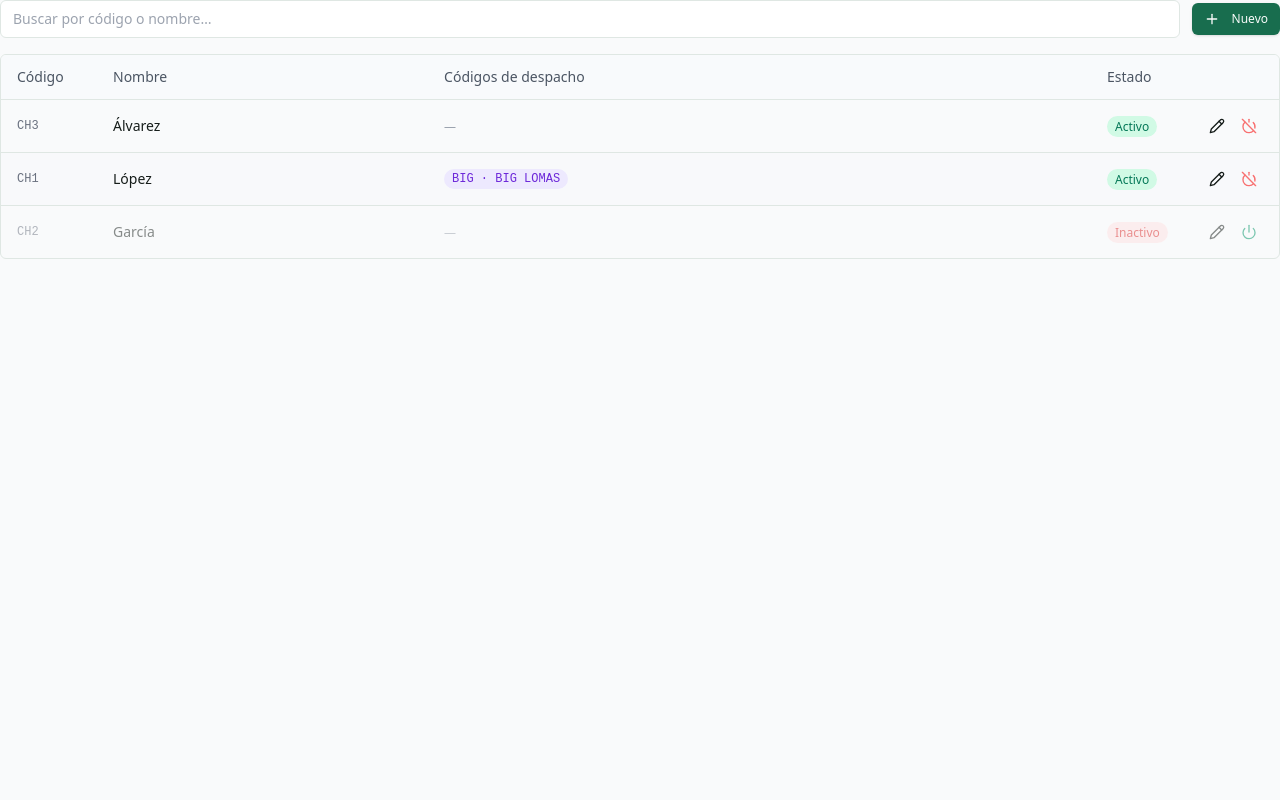
Scenario: ChoferesTab › el botón Nuevo abre el modal de alta
Click the button "Nuevo": (1236, 19) [1192,3,1279,35]
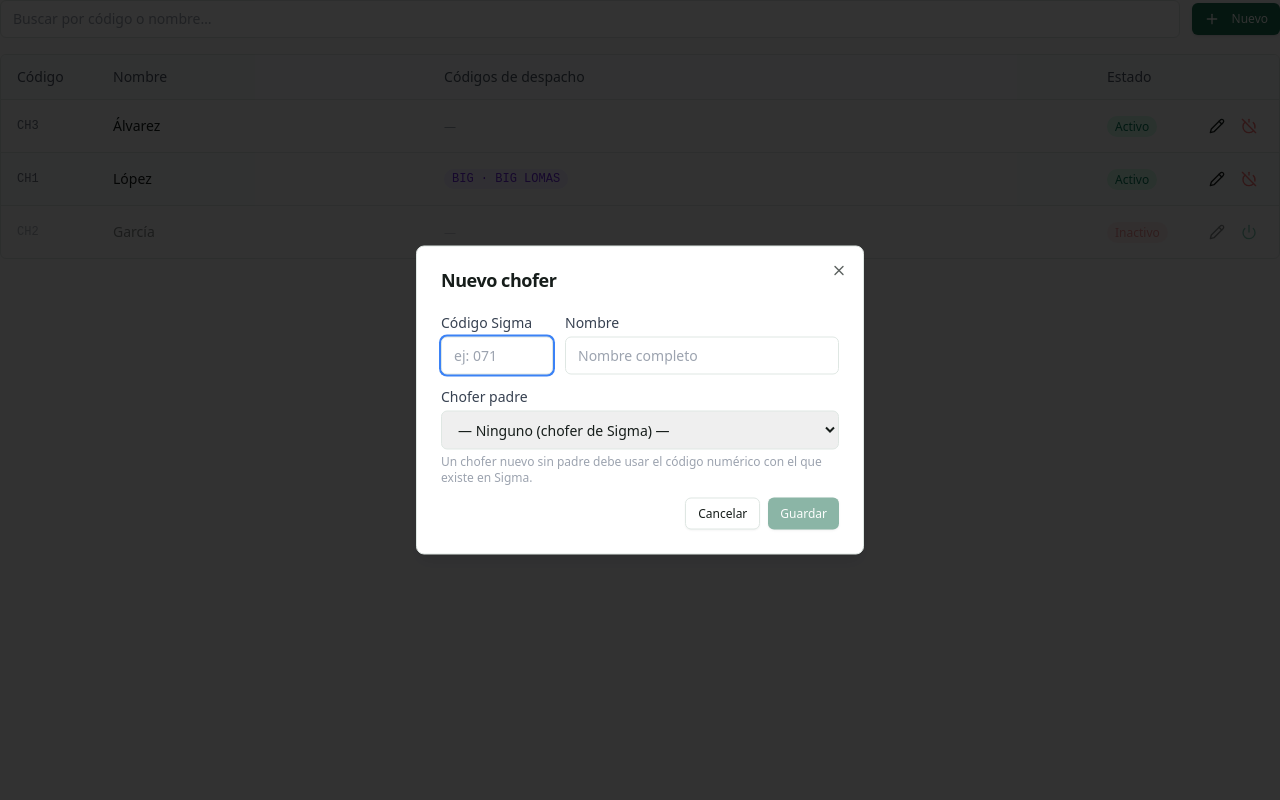
Expected: the heading "Nuevo chofer" is shown, [441,268,556,292]
